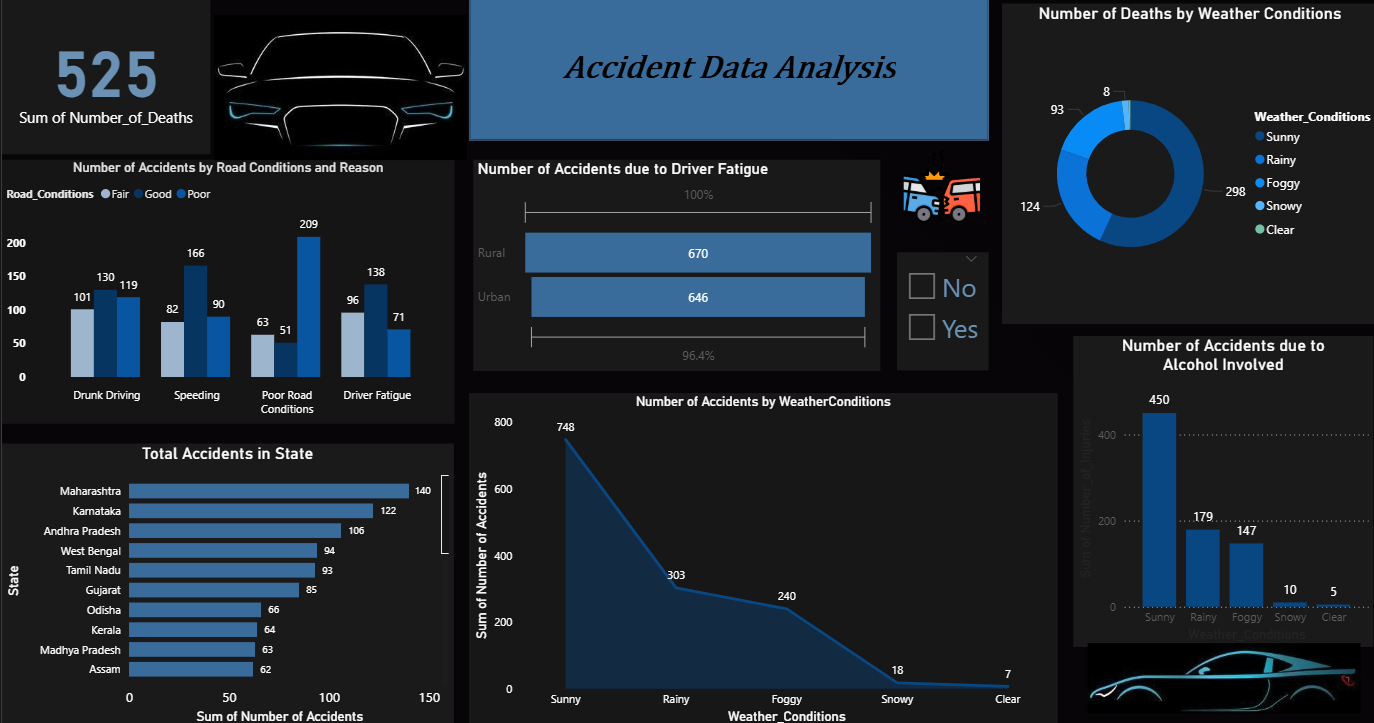

The page's visual inventory and layout, read from the dashboard file:
{"tool":"powerbi","page":{"name":"Project Dashboard","canvas":[1500,800],"ordinal":0},"visuals":[{"type":"clusteredColumnChart","title":"Number of Accidents by Road Conditions and Reason","fields":{"Category":["accident.Reason"],"Y":["Sum(accident.Number of Accidents)"],"Series":["accident.Road_Conditions"]},"box":[0,178,493.2,288.1],"z":0},{"type":"areaChart","title":"Number of Accidents by WeatherConditions","fields":{"Category":["accident.Weather_Conditions"],"Y":["Sum(accident.Number of Accidents)"]},"box":[510.2,433.9,640.7,366.1],"z":1000},{"type":"shape","box":[510.2,1.7,566.1,155.9],"z":2000},{"type":"donutChart","title":"Number of Deaths by Weather Conditions","fields":{"Y":["Sum(accident.Number_of_Deaths)"],"Category":["accident.Weather_Conditions"]},"box":[1090,7.6,410.4,349.3],"z":3000},{"type":"clusteredBarChart","title":"Total Accidents in State","fields":{"Category":["accident.State"],"Y":["Sum(accident.Number of Accidents)"]},"box":[0,488.7,492.5,311.2],"z":4000},{"type":"image","box":[226.7,1.6,285.8,197.1],"z":5000},{"type":"clusteredColumnChart","title":"Number of Accidents due to Alcohol Involved","fields":{"Category":["accident.Weather_Conditions"],"Y":["Sum(accident.Number_of_Injuries)"]},"box":[1168.4,371.4,327.6,339.3],"z":6000},{"type":"card","fields":{"Values":["Sum(accident.Number_of_Deaths)"]},"box":[0,1.7,227.1,171.2],"z":7000},{"type":"image","box":[1178.7,699,307.1,89.2],"z":9000},{"type":"funnel","title":"Number of Accidents due to Driver Fatigue","fields":{"Category":["accident.Road_Type"],"Y":["Sum(accident.Number of Accidents)"]},"box":[513.6,178,444.1,230.5],"z":10000},{"type":"slicer","fields":{"Values":["accident.Driver_Fatigue"]},"box":[976.3,279.7,100,128.8],"z":11000},{"type":"image","box":[972.9,157.6,103.4,98.3],"z":12000}]}

Visuals, with their boxes in screenshot pixels (x1, y1, x2, y2), scaled from the page's 1500x800 canvas onto the 1374x723 screenshot:
"Number of Accidents by Road Conditions and Reason" clusteredColumnChart: 0 161 452 421
"Number of Accidents by WeatherConditions" areaChart: 467 392 1054 722
shape: 467 2 986 142
"Number of Deaths by Weather Conditions" donutChart: 998 7 1373 323
"Total Accidents in State" clusteredBarChart: 0 442 451 722
image: 208 1 469 180
"Number of Accidents due to Alcohol Involved" clusteredColumnChart: 1070 336 1370 642
card - Sum(accident.Number_of_Deaths): 0 2 208 156
image: 1080 632 1361 712
"Number of Accidents due to Driver Fatigue" funnel: 470 161 877 369
slicer - accident.Driver_Fatigue: 894 253 986 369
image: 891 142 986 231
